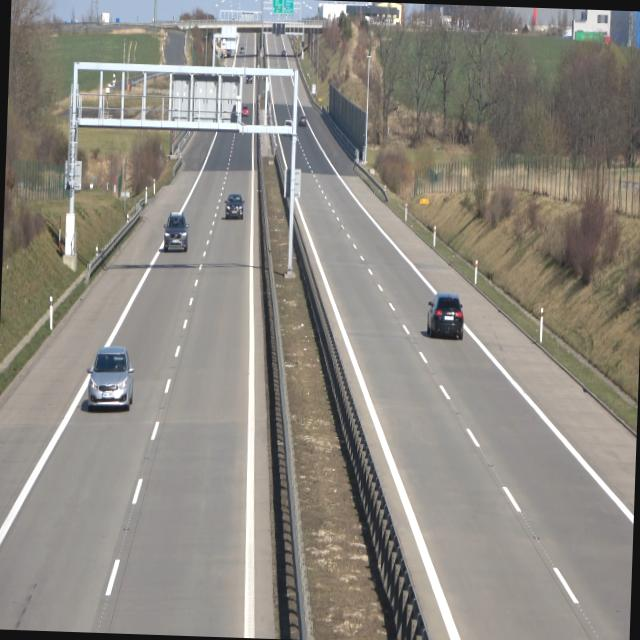Vehicle: (88, 346, 136, 413), (426, 290, 466, 344), (162, 211, 188, 254), (223, 193, 244, 220), (242, 104, 250, 118), (298, 114, 307, 126)
